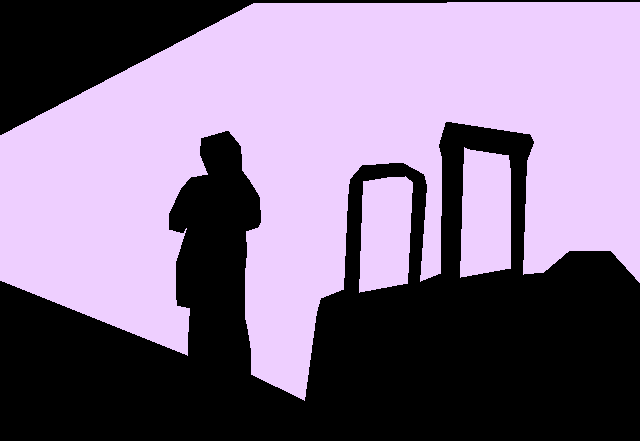Train: (0, 1, 640, 400)
